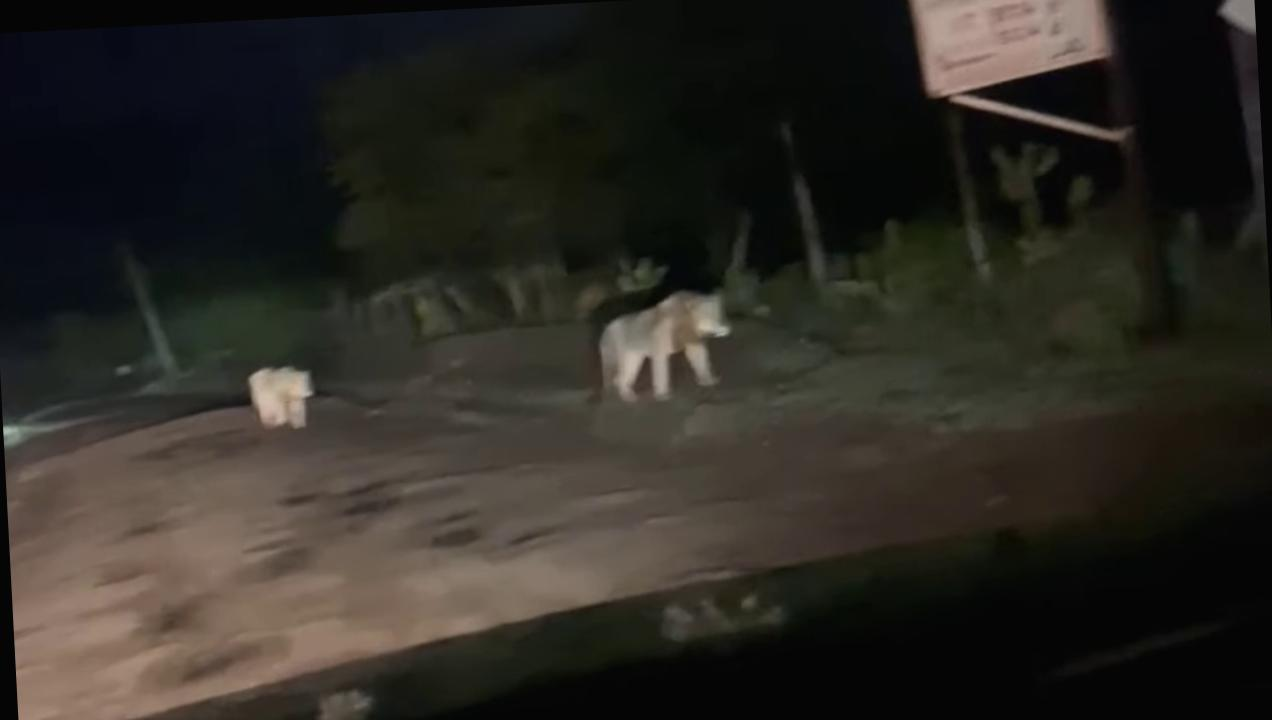lions: (584, 276, 747, 416)
